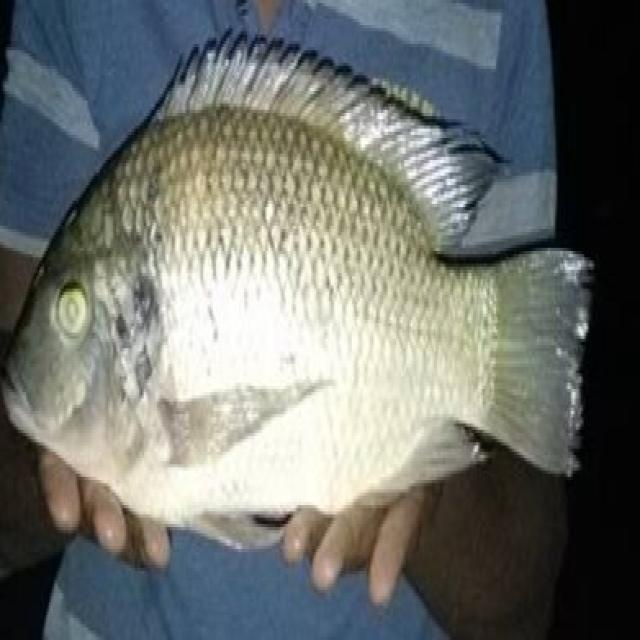ikan: (11, 29, 614, 568)
